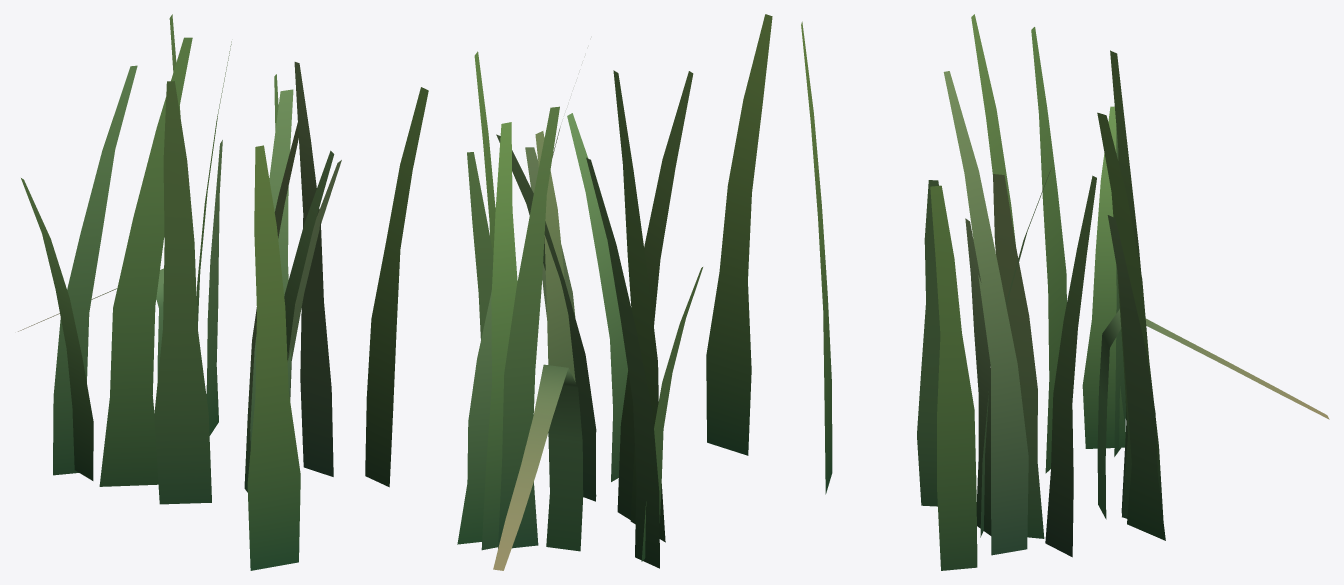
Rendered from env_grass_lawn_dense_01.glb.
3 renders of one model, left to right at view 1: azimuth 30°, elevation 25°; view 2: azimuth 150°, elevation 25°; view 3: azimuth 270°, elevation 25°, orthographic. The views are drawn at different scales.
Visible parts, largest first — view 1: grass_lawn_dense; view 2: grass_lawn_dense; view 3: grass_lawn_dense.
Boxes of the visible parts, left/top/right/bottom form: grass_lawn_dense: left=18, top=14, right=428, bottom=570; grass_lawn_dense: left=457, top=14, right=772, bottom=570; grass_lawn_dense: left=801, top=14, right=1329, bottom=570.
Size of the model in its own units: 0.1176 by 0.1665 by 0.1662.
